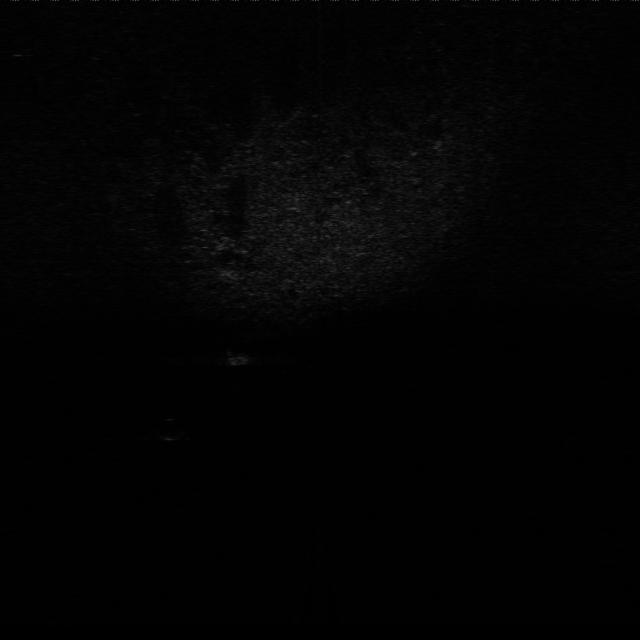ball: (154, 417, 187, 442)
cube: (223, 347, 254, 368)
